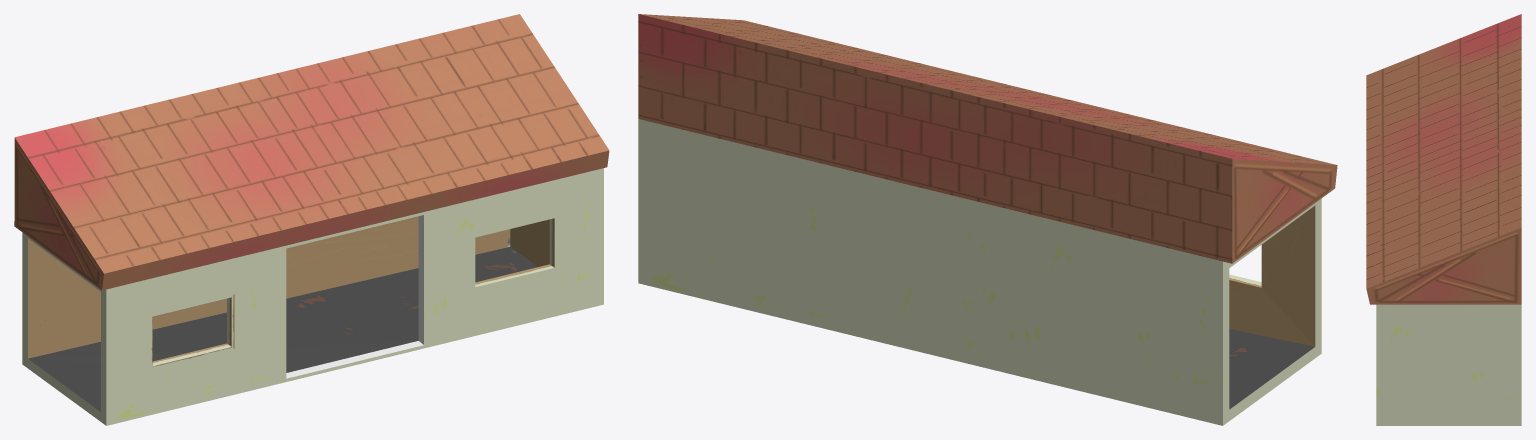
The model's file is oslohouseuv.FBX.
3 views of the same model, side by side, from view 1: azimuth 30°, elevation 25°; view 2: azimuth 150°, elevation 25°; view 3: azimuth 270°, elevation 25° (orthographic). The views are drawn at different scales.
Parts seen in each view (by area): view 1: Box001; view 2: Box001; view 3: Box001.
Part boxes in pixels (x1,y1,x2,y2): Box001: (14, 14, 609, 425); Box001: (638, 14, 1337, 425); Box001: (1366, 14, 1521, 425).
Bounding box in the file's own units: 85.84 × 37.2 × 26.37.
Materials: 1 (1 with a texture image).
